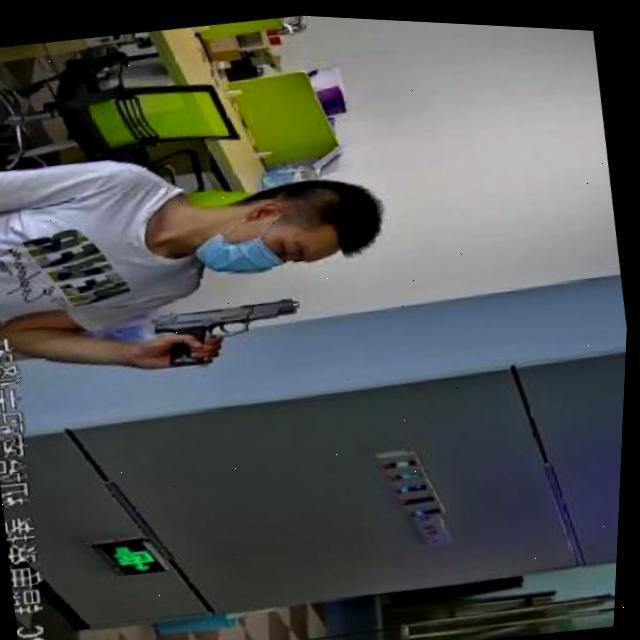gun: (148, 274, 328, 388)
